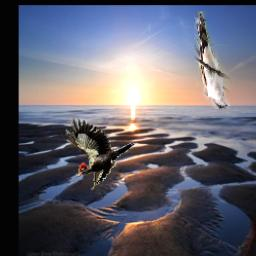Cuckoo: (195, 12, 231, 110)
Woodpecker: (66, 118, 134, 191)
